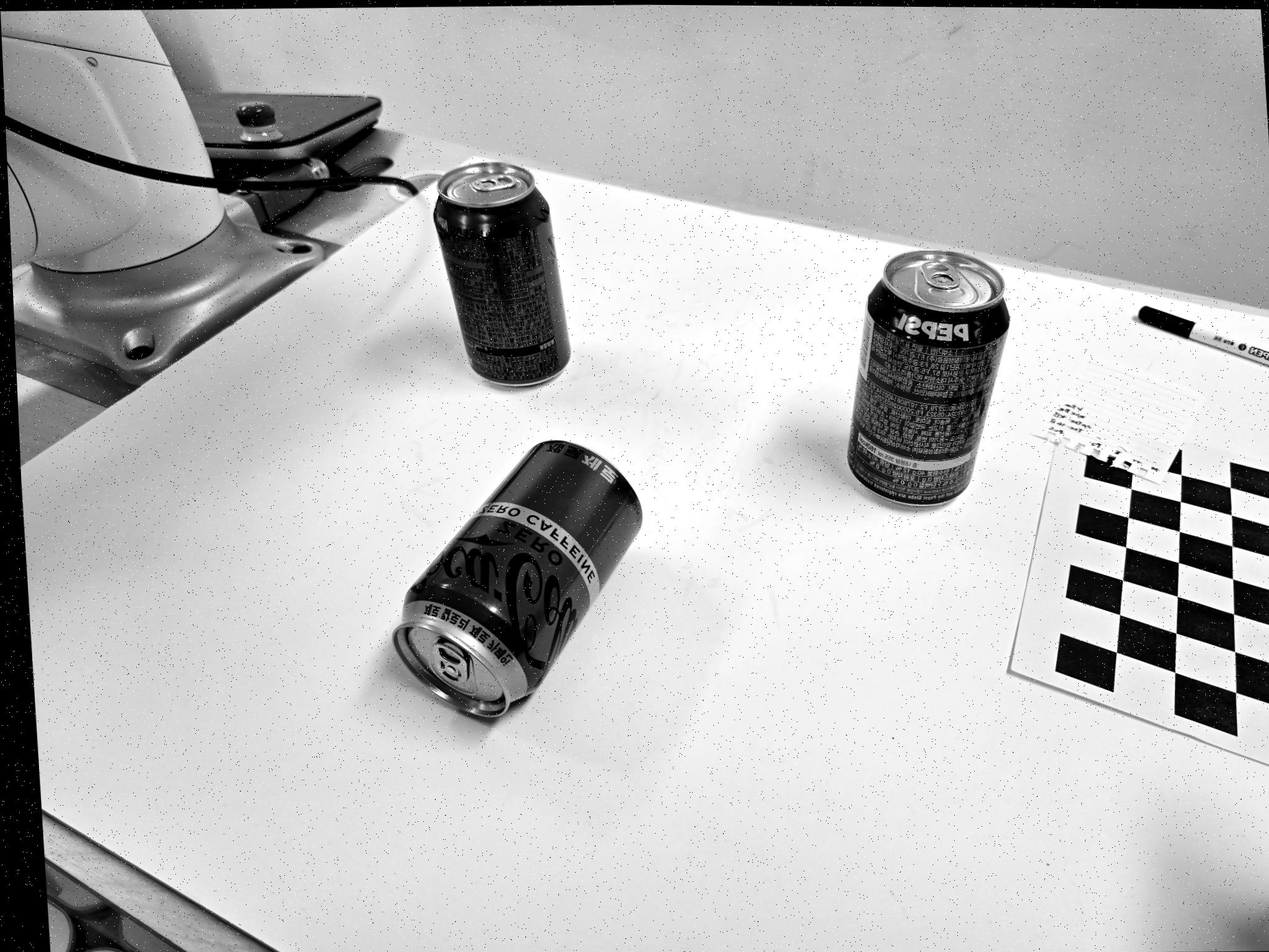can_coke_decaf: (394, 444, 644, 715)
can_coke_zero: (432, 157, 577, 387)
can_pepsi: (848, 247, 1013, 507)
